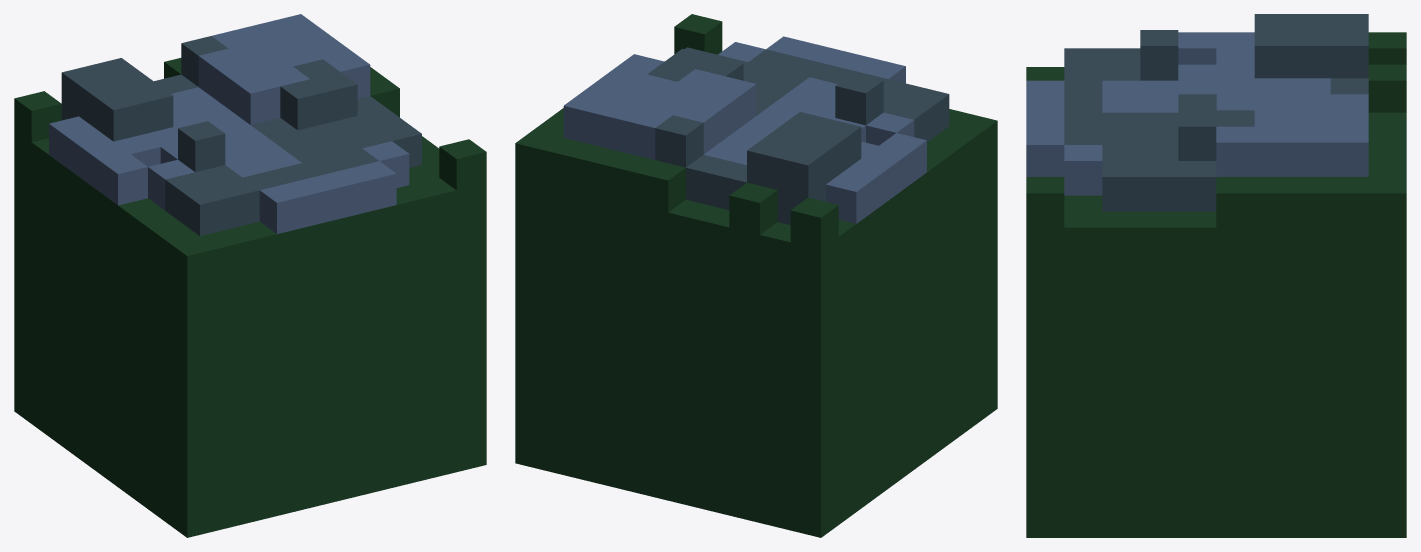
The model's file is Floor 8.obj.
3 views of the same model, side by side, from view 1: azimuth 30°, elevation 25°; view 2: azimuth 150°, elevation 25°; view 3: azimuth 270°, elevation 25° (orthographic). The views are drawn at different scales.
Size of the model in its own units: 10 by 11 by 10.
1 material, 1 textured.
